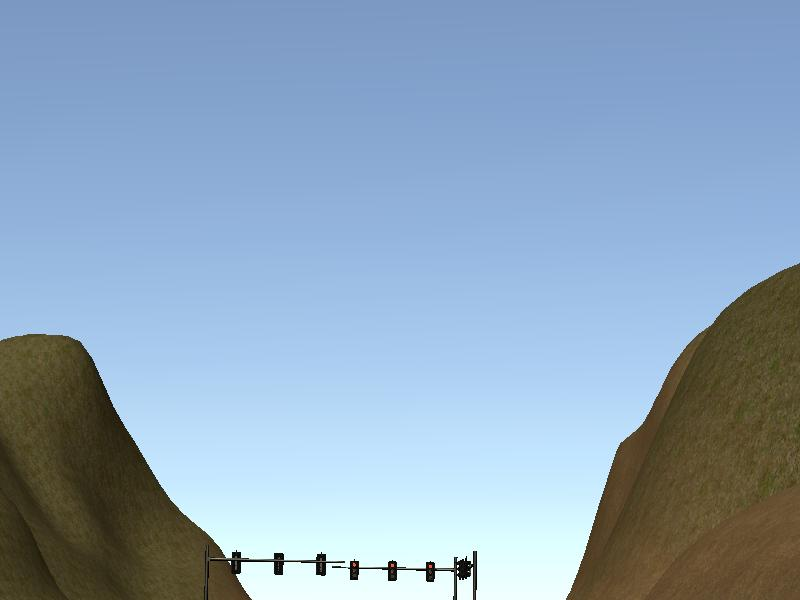Red: (425, 560, 436, 583), (349, 558, 359, 581), (388, 559, 397, 582)
